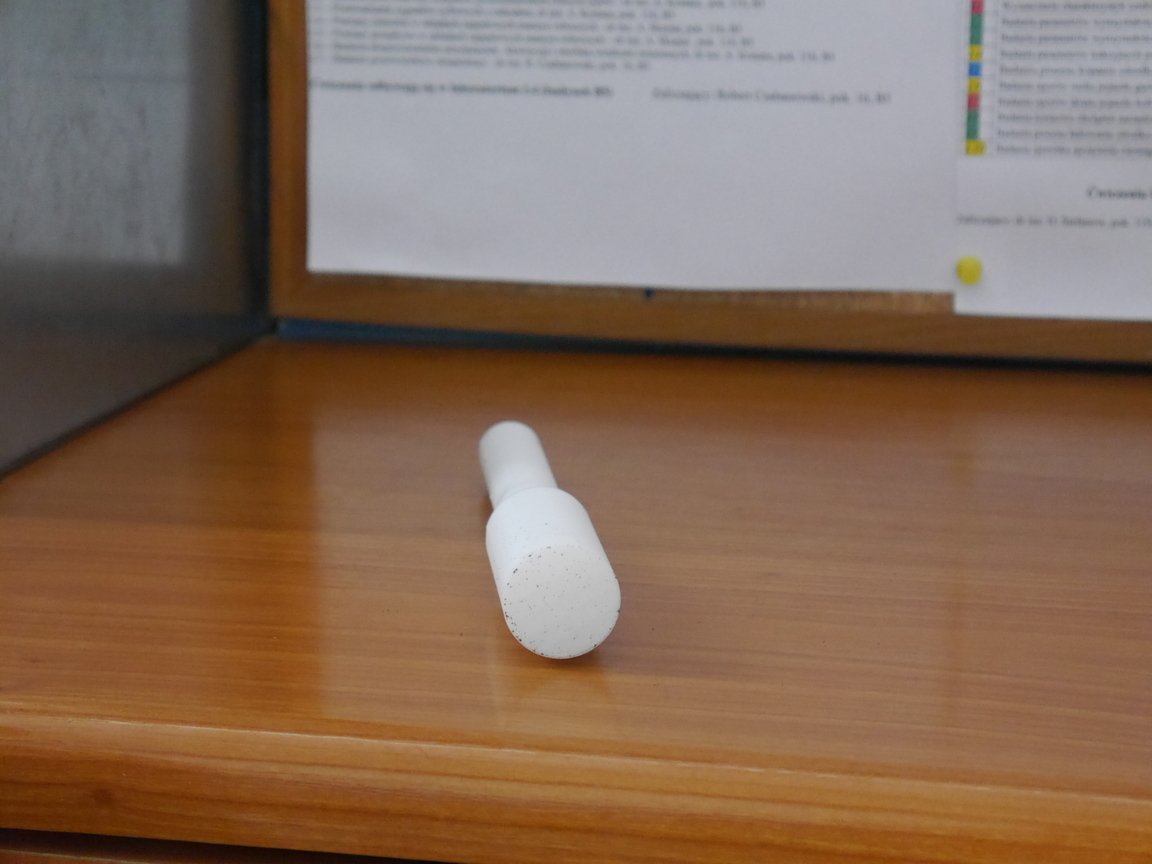cargo_g: (477, 422, 621, 664)
